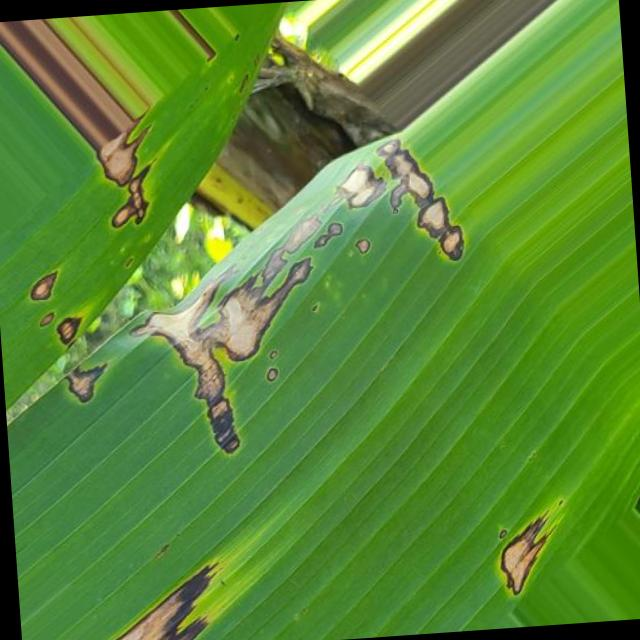Banana_Black_Sigatoka: (14, 238, 313, 455), (320, 52, 498, 274), (14, 520, 247, 640), (43, 60, 193, 222), (486, 472, 616, 616)
